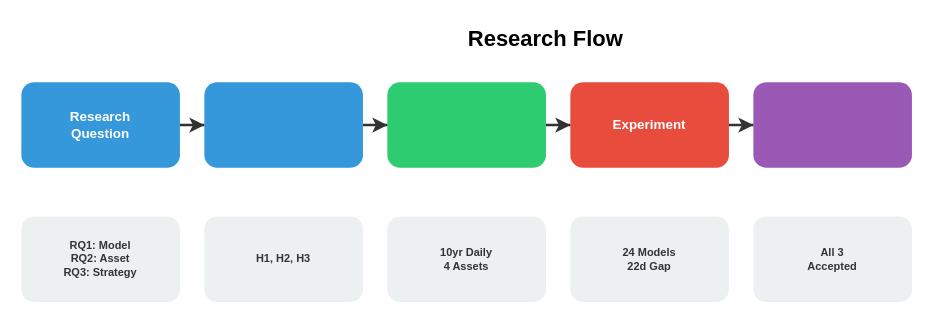
Some shapes in this 932 by 322 pixel diagram are drawn without their labels. The shapes that lost their labels are listed below. From the top down, each one's centre as x and y in pixels, then its label:
At point (283, 124): "Hypothesis".
At point (466, 124): "Data Collection".
At point (832, 124): "Conclusion".
